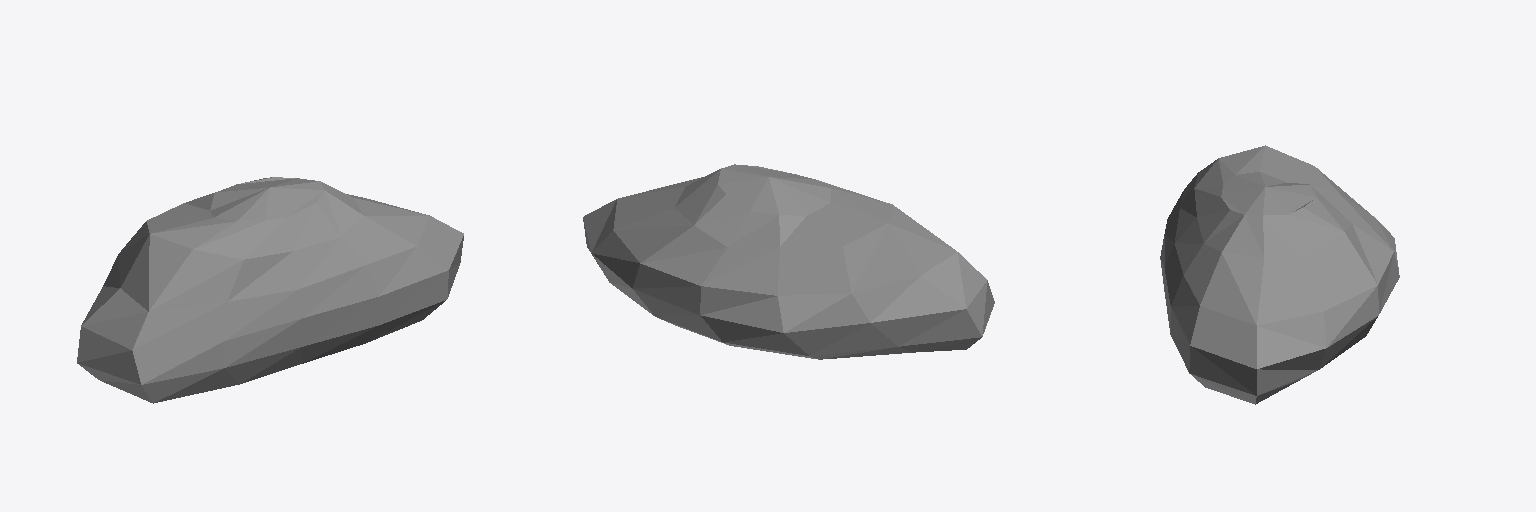
File: Stone-4.obj
3 renders of one model, left to right at view 1: azimuth 30°, elevation 25°; view 2: azimuth 150°, elevation 25°; view 3: azimuth 270°, elevation 25°, orthographic.
Parts seen in each view (by area): view 1: Stone_4; view 2: Stone_4; view 3: Stone_4.
Part boxes in pixels (bbox=[...]): Stone_4: bbox=[77, 177, 463, 403]; Stone_4: bbox=[583, 164, 994, 359]; Stone_4: bbox=[1160, 145, 1399, 404].
Size of the model in its own units: 1.2 by 0.4187 by 0.6303.